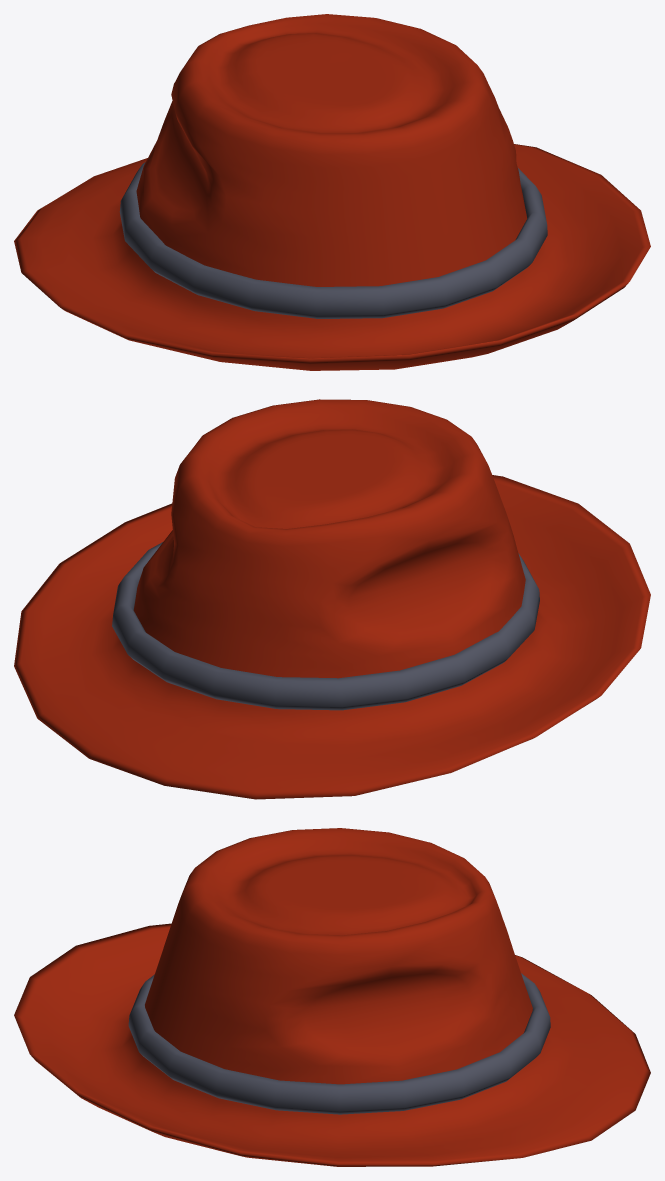
The model's file is S_Hat.fbx.
3 views of the same model, one above another, from view 1: azimuth 30°, elevation 25°; view 2: azimuth 150°, elevation 25°; view 3: azimuth 270°, elevation 25° (orthographic). The views are drawn at different scales.
Parts seen in each view (by area): view 1: S_LowHat_1, S_Hat_02; view 2: S_LowHat_1, S_Hat_02; view 3: S_LowHat_1, S_Hat_02.
Boxes of the visible parts, x1=… form: S_LowHat_1: x1=14, y1=14, x2=650, y2=370; S_Hat_02: x1=119, y1=162, x2=547, y2=318; S_LowHat_1: x1=14, y1=399, x2=650, y2=799; S_Hat_02: x1=112, y1=542, x2=539, y2=710; S_LowHat_1: x1=14, y1=828, x2=650, y2=1166; S_Hat_02: x1=128, y1=973, x2=550, y2=1114.
Bounding box in the file's own units: 0.3669 × 0.1308 × 0.3972.
